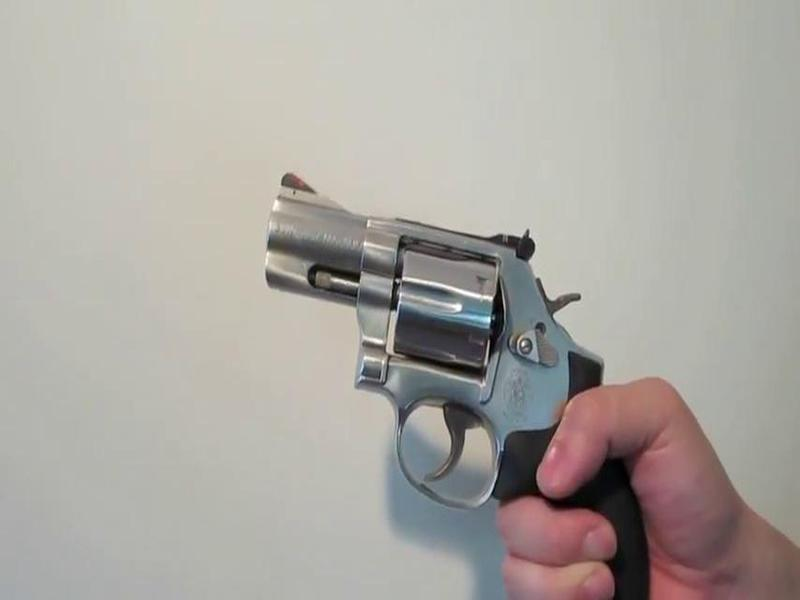Revolver: (244, 153, 617, 507)
